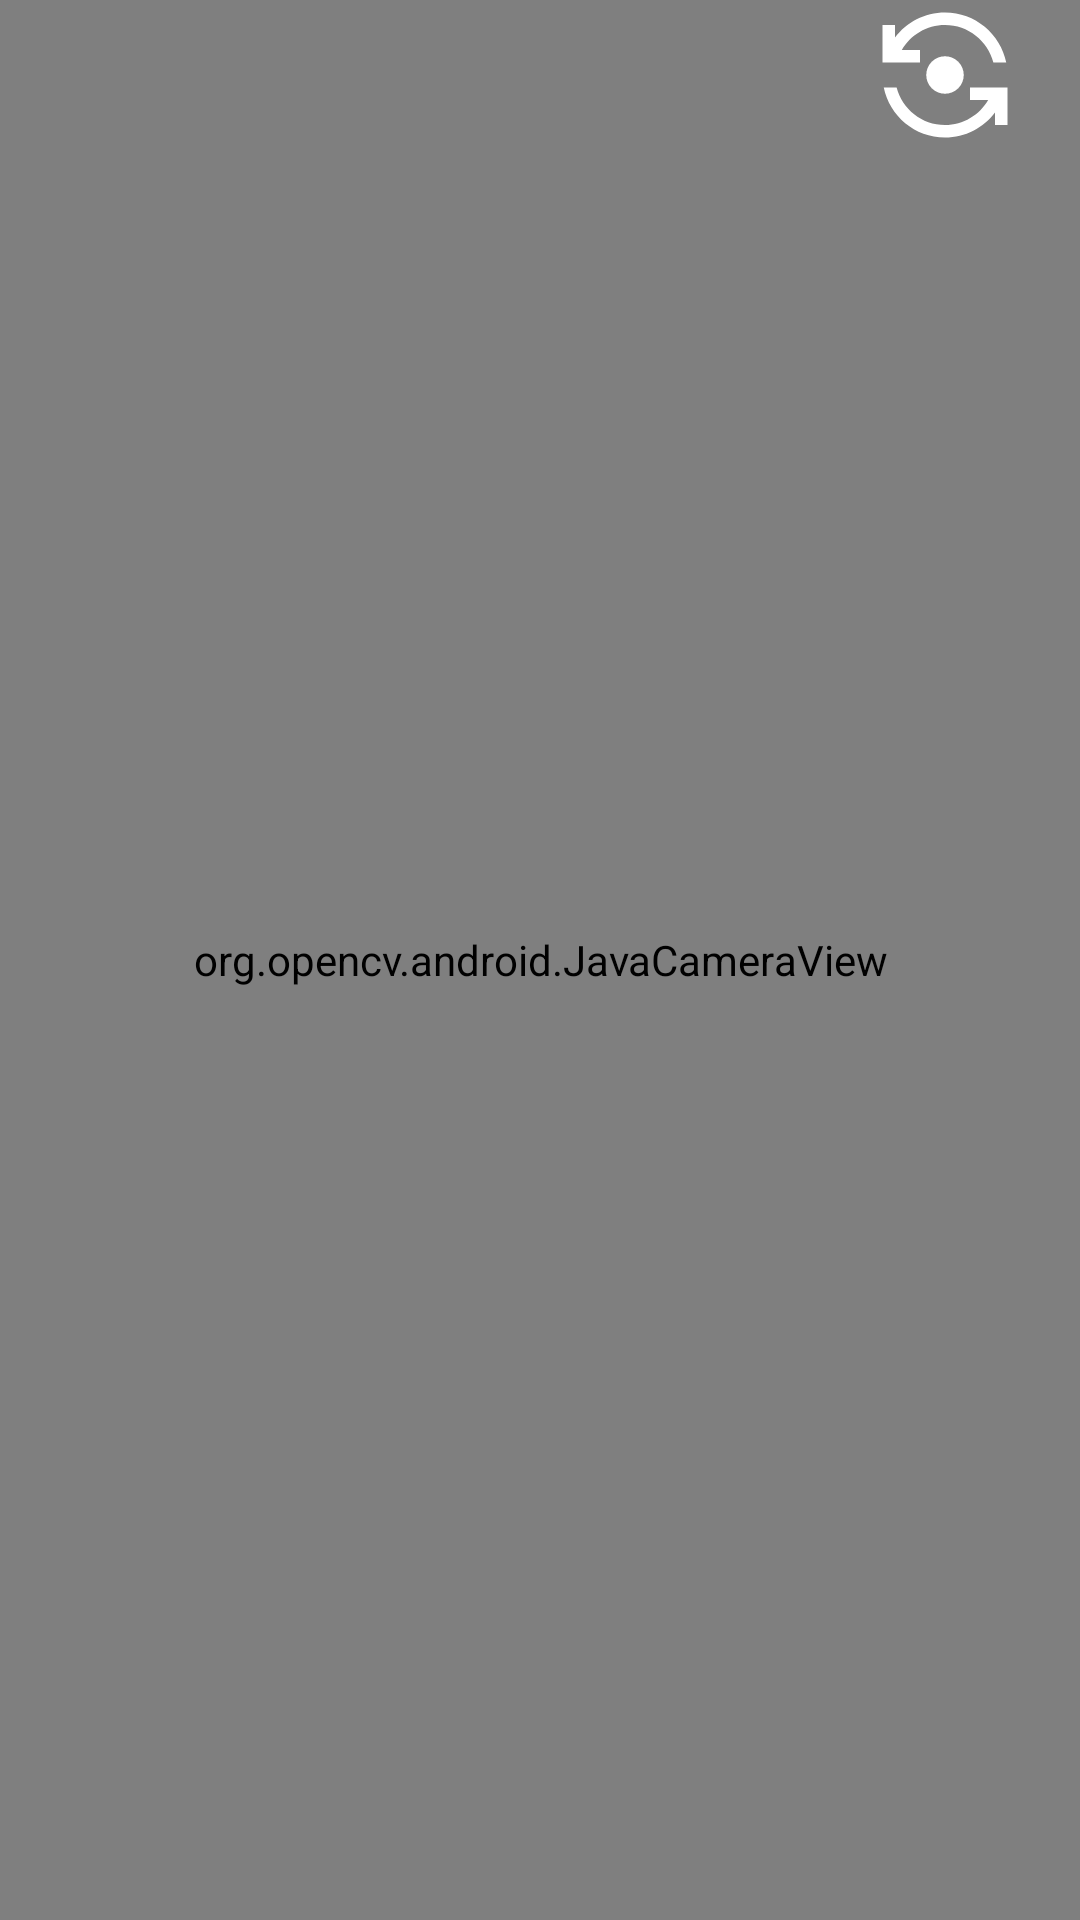

Icons on this 1080*1920 Android screen, each with the point to tap as [x,y]:
flip camera: [945,75]
